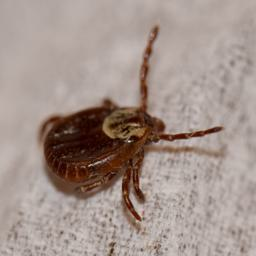Dermacentor variabilis: (8, 96, 186, 256)
